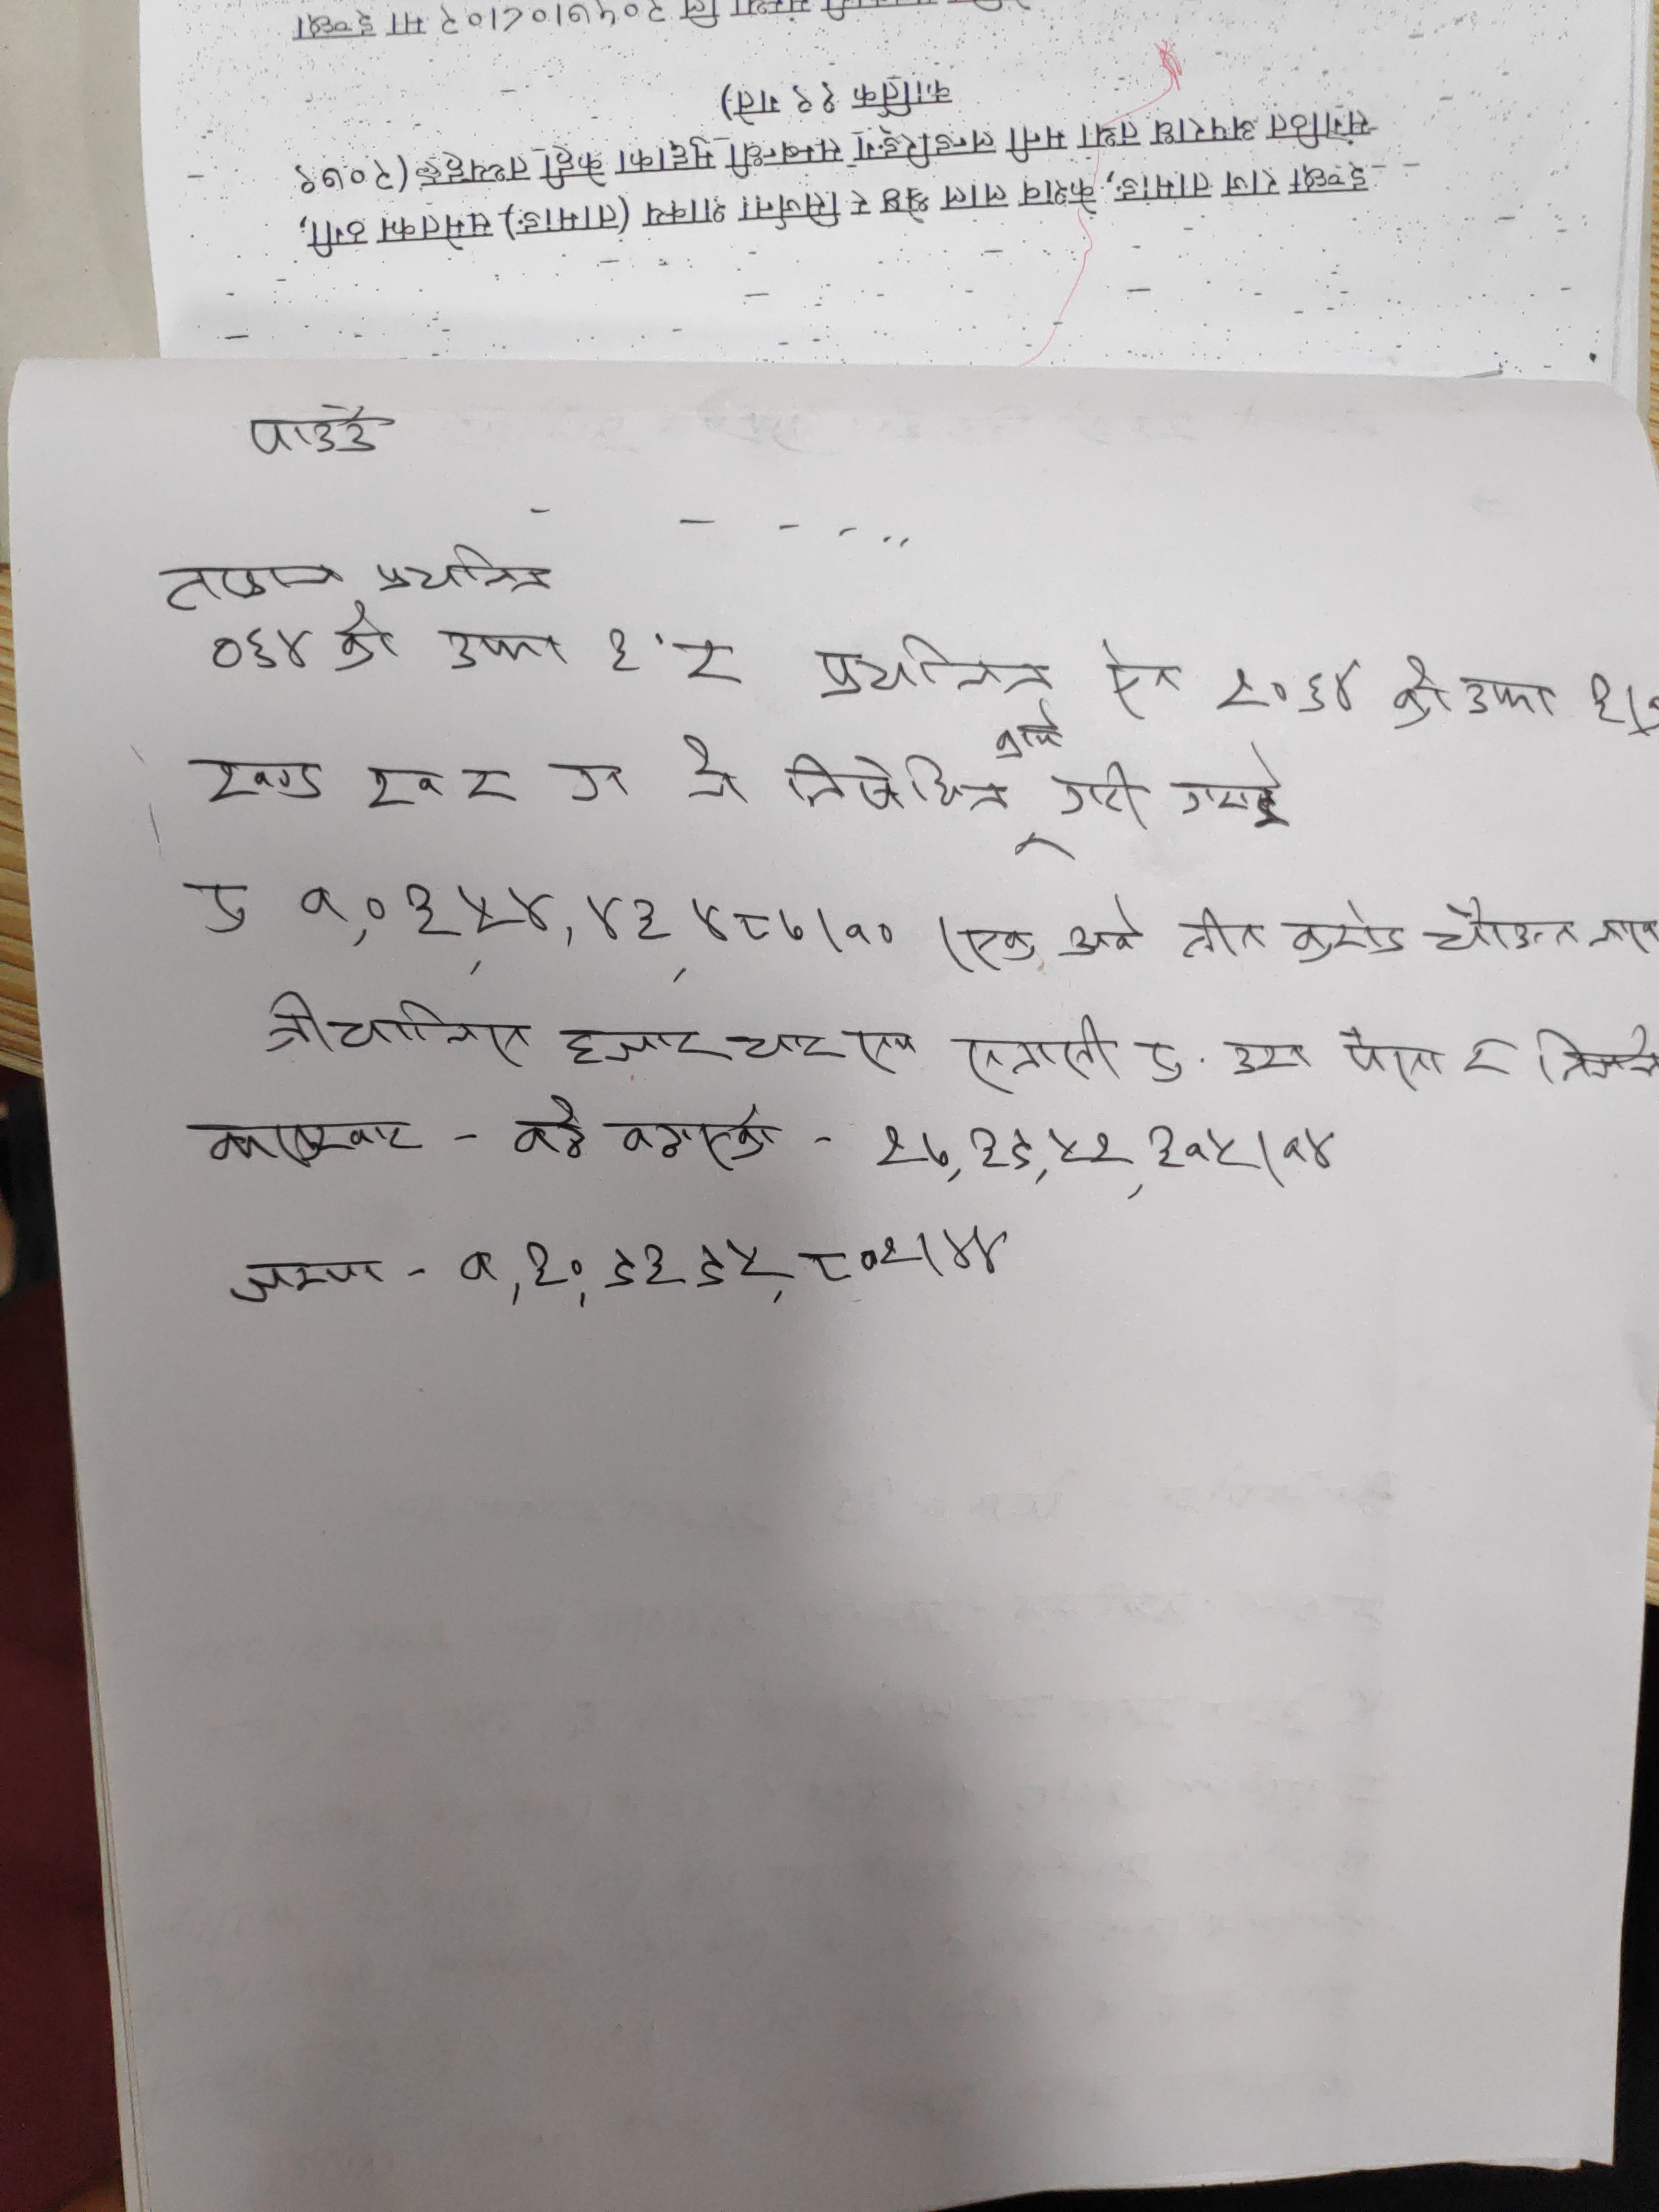text: (179, 871, 904, 956), (451, 1221, 1014, 1305), (868, 1115, 1351, 1183), (256, 984, 538, 1073), (800, 632, 1061, 707), (775, 747, 1011, 819), (955, 1007, 1124, 1103), (183, 1111, 429, 1176), (606, 1103, 786, 1172), (153, 554, 347, 613), (369, 540, 552, 601), (1427, 894, 1582, 965), (1173, 751, 1298, 834), (1211, 655, 1366, 721), (240, 395, 380, 463), (1286, 900, 1415, 968), (1089, 636, 1187, 725), (1331, 1021, 1448, 1094), (221, 1256, 383, 1308), (558, 1015, 720, 1066), (197, 749, 329, 808), (1044, 758, 1150, 826), (500, 1092, 598, 1165), (432, 624, 566, 676), (664, 730, 748, 808), (1173, 902, 1274, 967), (199, 617, 312, 674), (1053, 894, 1150, 958), (727, 1021, 840, 1073), (1385, 651, 1455, 735), (1457, 672, 1560, 725), (331, 601, 404, 674), (957, 920, 1042, 977), (1227, 1029, 1317, 1080), (361, 765, 453, 813), (545, 759, 634, 806), (847, 1019, 917, 1076), (460, 756, 525, 813)
